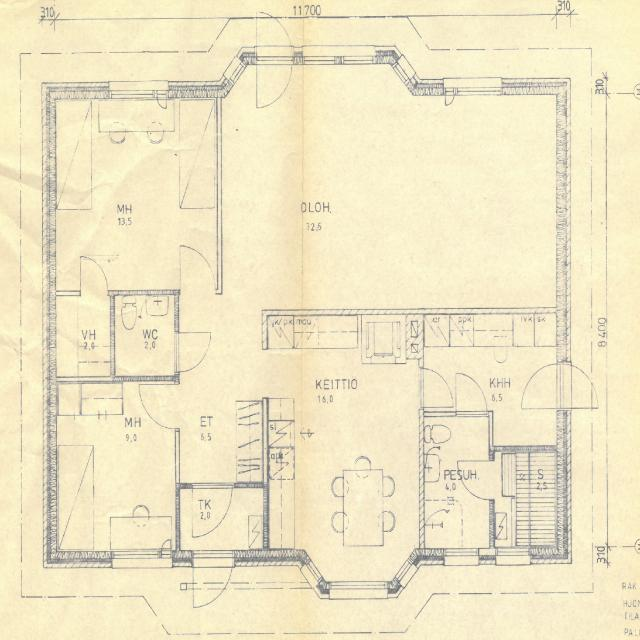door: (192, 550, 232, 616), (256, 1, 292, 65), (256, 46, 292, 109), (556, 364, 606, 408), (192, 483, 232, 538), (521, 364, 570, 408), (140, 384, 180, 428), (180, 247, 214, 296), (419, 368, 455, 407), (175, 332, 211, 371), (458, 461, 494, 499), (452, 268, 488, 306), (456, 372, 486, 417), (80, 256, 107, 295)
